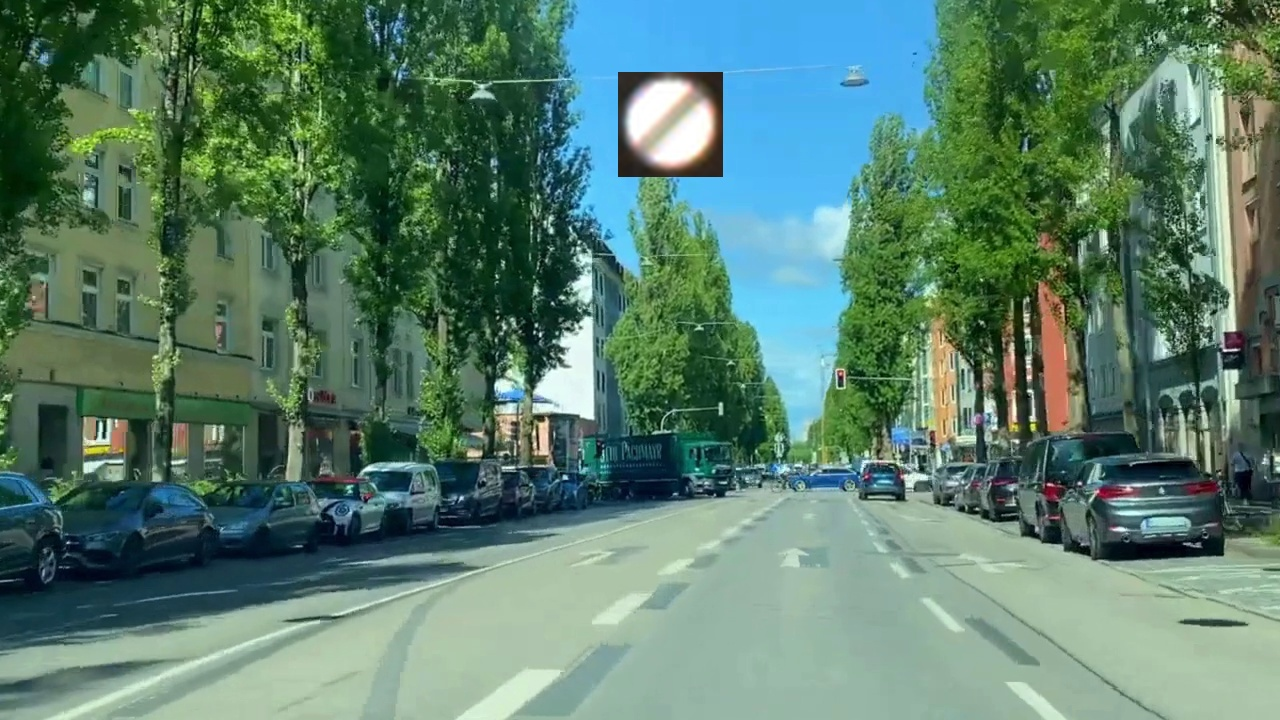End limits: (618, 72, 723, 177)
